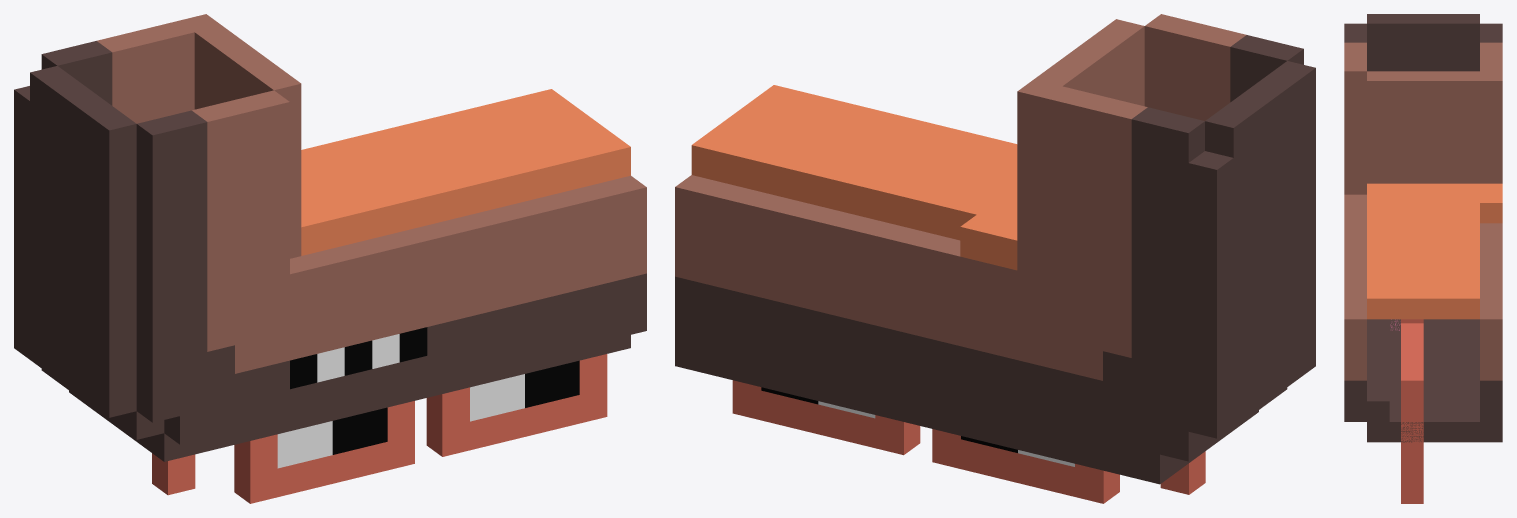
File: pipe__wip.glb
3 views of the same model, side by side, from view 1: azimuth 30°, elevation 25°; view 2: azimuth 150°, elevation 25°; view 3: azimuth 270°, elevation 25° (orthographic). The views are drawn at different scales.
Parts seen in each view (by area): view 1: base, monture, glass (2); view 2: base, monture, glass (2); view 3: base, monture.
Boxes of the visible parts, box(x1,y1,x2,y2) form: base: box(14, 14, 646, 461); monture: box(152, 354, 607, 503); glass (2): box(277, 360, 579, 468); base: box(675, 14, 1315, 484); monture: box(732, 380, 1205, 503); glass (2): box(761, 387, 1074, 466); base: box(1344, 14, 1502, 442); monture: box(1401, 319, 1423, 503).
Size of the model in its own units: 19 by 15 by 7.
10 materials, 10 textured.
